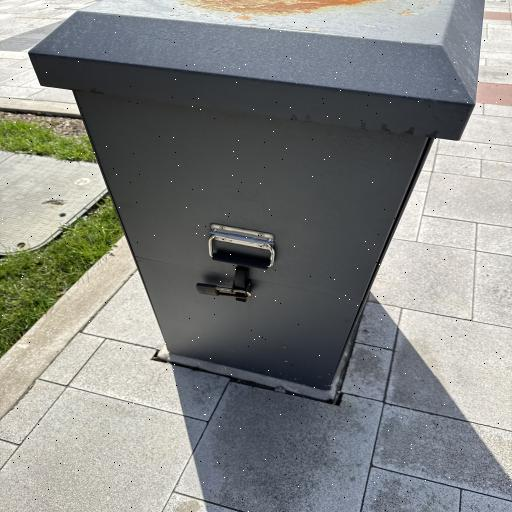Electrical Box: (27, 1, 487, 388)
